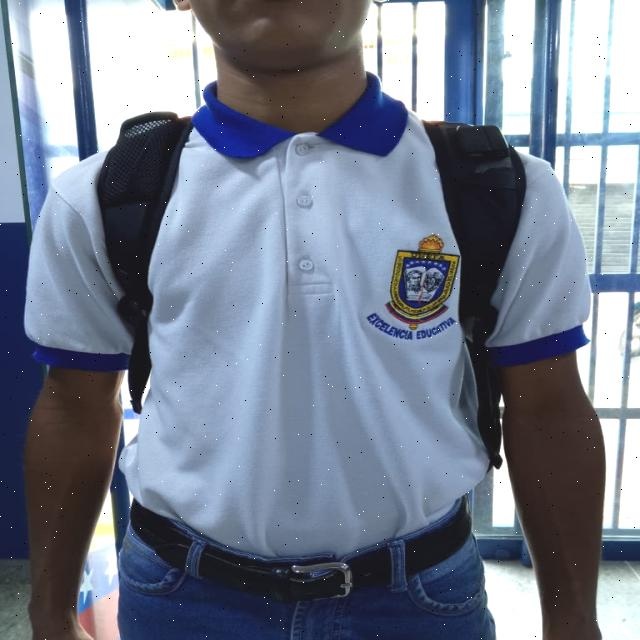uniforme_superior: (23, 69, 592, 561)
